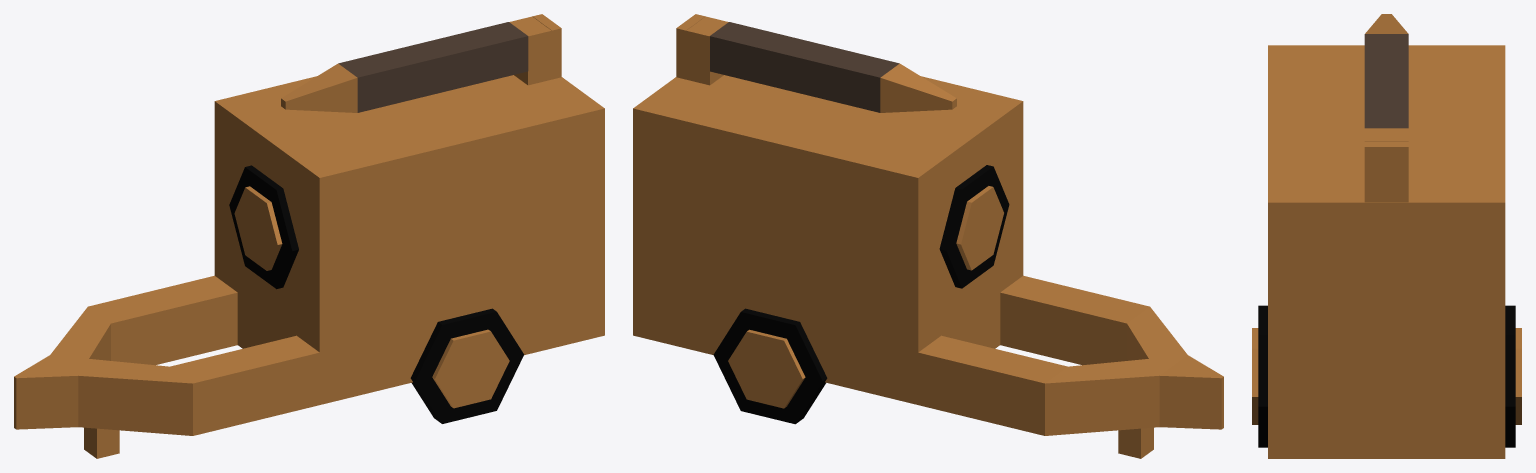
Rendered from 2dlrpanjsirhtlqkf.fbx.
The picture shows the model from 3 angles, left to right: view 1: azimuth 30°, elevation 25°; view 2: azimuth 150°, elevation 25°; view 3: azimuth 270°, elevation 25°; orthographic projection. The views are drawn at different scales.
Parts seen in each view (by area): view 1: 큐브, 큐브.001, 큐브.003, 실린더.004, 실린더.005, 실린더, 실린더.001, 큐브.002, 큐브.004, 실린더.006; view 2: 큐브, 큐브.001, 큐브.003, 실린더.006, 실린더.007, 실린더, 실린더.001, 큐브.002, 큐브.004; view 3: 큐브, 큐브.003, 큐브.004, 실린더.007, 실린더.004, 실린더.005, 실린더.006, 큐브.002.
Part boxes in pixels (box(x1,y1,x2,y2)): 큐브: box(214, 75, 604, 404); 큐브.001: box(14, 275, 324, 435); 큐브.003: box(338, 22, 528, 112); 실린더.004: box(410, 308, 524, 423); 실린더.005: box(432, 329, 509, 408); 실린더: box(229, 165, 298, 289); 실린더.001: box(234, 186, 282, 270); 큐브.002: box(281, 16, 551, 112); 큐브.004: box(509, 14, 561, 85); 실린더.006: box(84, 427, 119, 458); 큐브: box(633, 75, 1023, 404); 큐브.001: box(913, 275, 1223, 435); 큐브.003: box(710, 22, 899, 112); 실린더.006: box(728, 329, 1153, 458); 실린더.007: box(713, 308, 827, 424); 실린더: box(939, 165, 1009, 288); 실린더.001: box(956, 186, 1003, 270); 큐브.002: box(686, 16, 956, 112); 큐브.004: box(676, 14, 728, 85); 큐브: box(1268, 45, 1505, 458); 큐브.003: box(1364, 34, 1408, 128); 큐브.004: box(1364, 128, 1408, 202); 실린더.007: box(1505, 305, 1515, 447); 실린더.004: box(1258, 305, 1267, 447); 실린더.005: box(1252, 328, 1258, 424); 실린더.006: box(1515, 328, 1521, 424); 큐브.002: box(1365, 14, 1408, 141).
Size of the model in its own units: 983 by 561 by 379.
